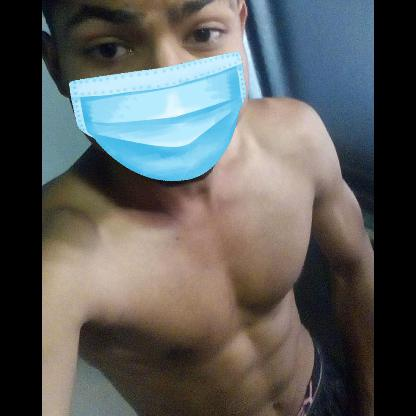Surgical Mask: (53, 3, 247, 194)
